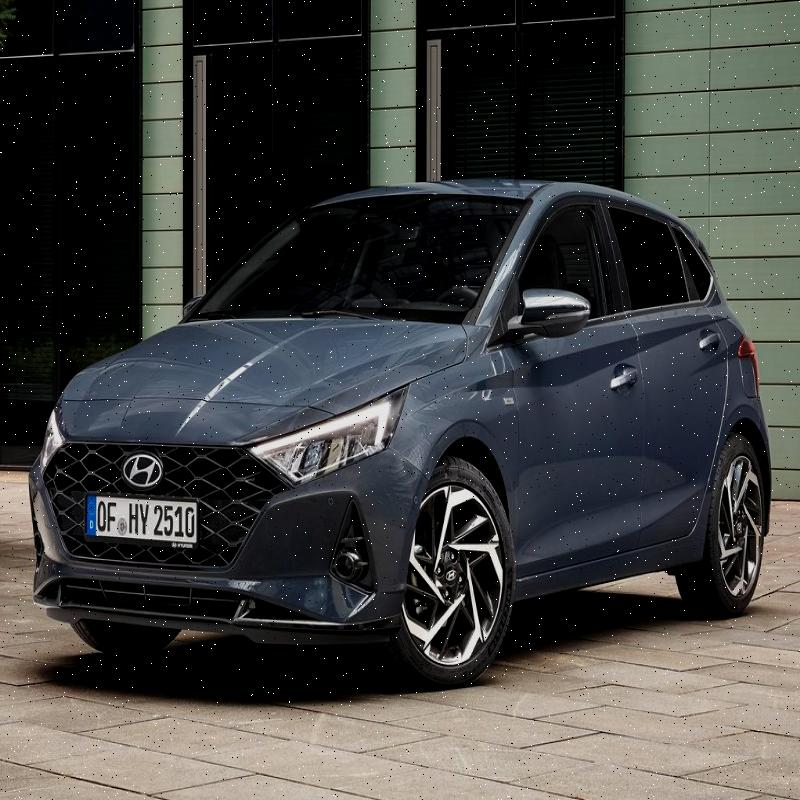car: (38, 143, 800, 675)
